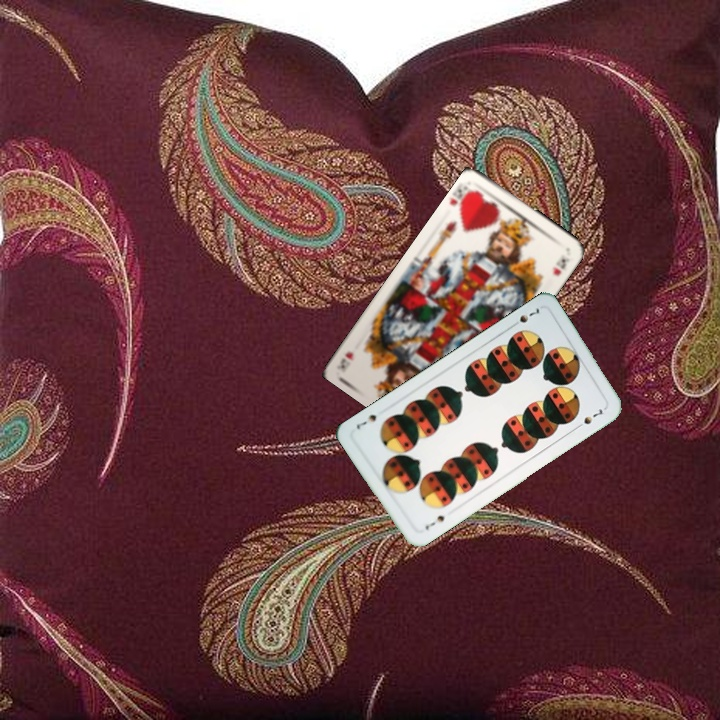HK: (445, 182, 476, 213)
S7: (507, 303, 542, 330), (421, 511, 447, 533)
